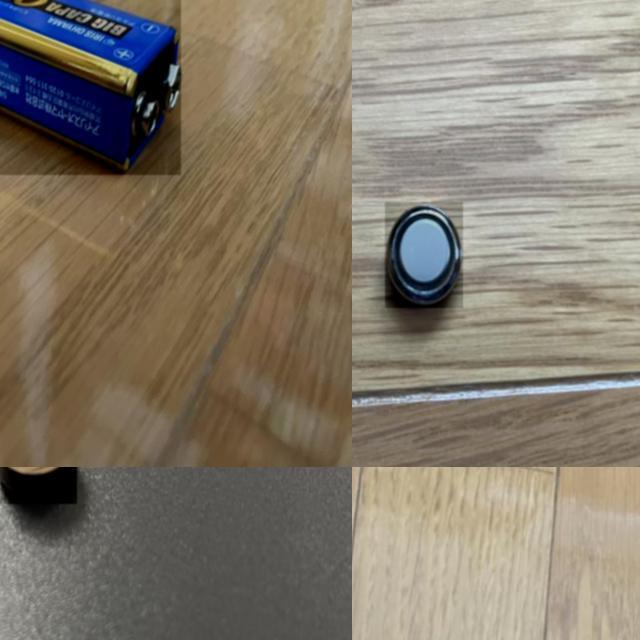9V: (0, 0, 181, 175)
